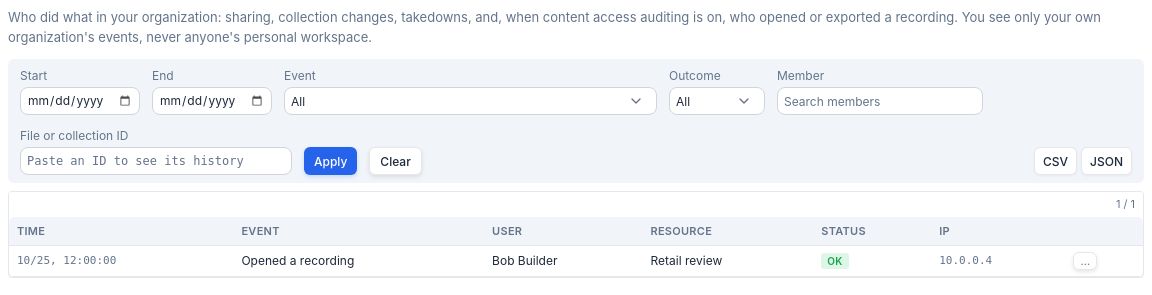
OrgAuditLogPanel › hides the export buttons when the deployment answers 404
Expected: the text "Bob Builder" is shown, [484, 246, 642, 276]
Click the button "JSON" at (1107, 161), box [1081, 147, 1132, 175]
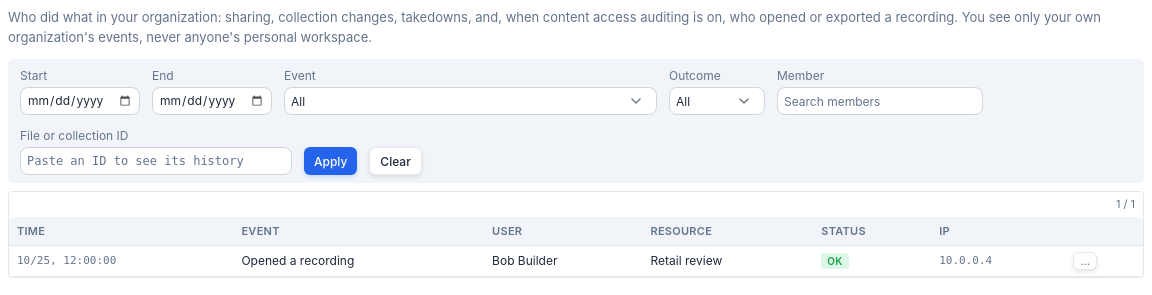
Now the button "CSV" is gone
